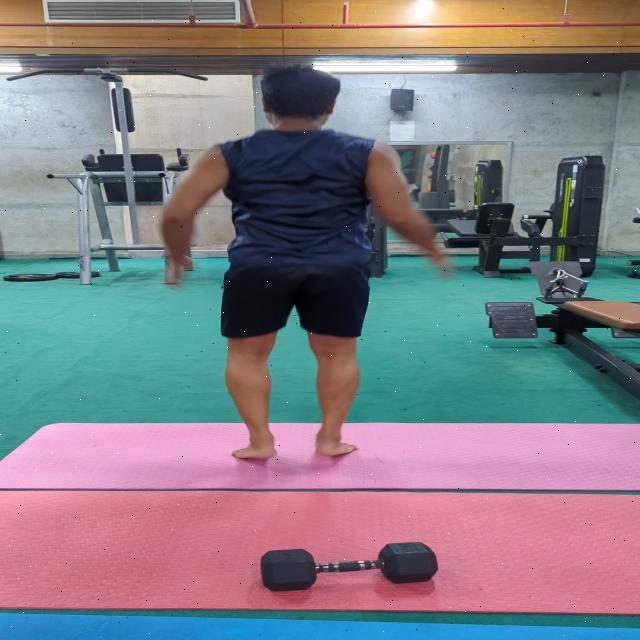Normal_JumpingJacks: (132, 66, 534, 496)
